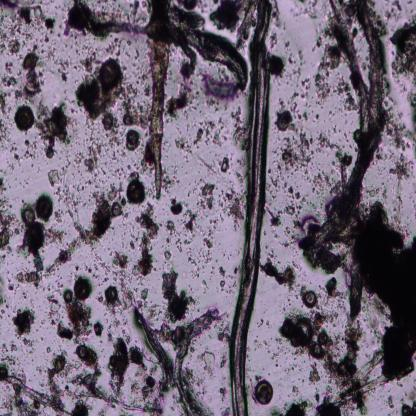Background material: (359, 200, 416, 376), (145, 0, 173, 194), (164, 207, 219, 278), (67, 187, 118, 255), (310, 273, 352, 340), (75, 62, 126, 117), (127, 200, 160, 284), (381, 78, 416, 155), (165, 52, 196, 127), (266, 160, 306, 218), (8, 378, 68, 416), (387, 152, 416, 229), (355, 290, 389, 349), (312, 47, 344, 108), (72, 142, 108, 193), (97, 107, 127, 166), (34, 100, 72, 146), (46, 354, 79, 406), (391, 19, 416, 84), (289, 68, 314, 133), (108, 334, 133, 398), (199, 67, 237, 108), (79, 391, 145, 413), (279, 133, 316, 172), (261, 253, 297, 293), (77, 347, 104, 399), (0, 177, 20, 247), (321, 332, 346, 386), (211, 0, 251, 32), (66, 300, 95, 344), (194, 109, 227, 147), (45, 239, 77, 278), (121, 84, 149, 128), (198, 304, 231, 341), (219, 187, 245, 232), (21, 52, 43, 103), (0, 335, 37, 365), (0, 61, 26, 103), (271, 346, 307, 376), (140, 376, 167, 416), (182, 364, 210, 402), (29, 31, 60, 62), (138, 287, 164, 323), (308, 173, 344, 199), (48, 2, 73, 39), (116, 273, 138, 315), (0, 17, 23, 57), (230, 105, 249, 150), (345, 0, 363, 47), (342, 317, 364, 353), (294, 221, 318, 254), (6, 268, 30, 300), (130, 345, 154, 377), (90, 0, 127, 20), (167, 294, 194, 321), (217, 262, 239, 295), (12, 308, 35, 339), (338, 78, 358, 113), (161, 268, 184, 298), (268, 401, 314, 416), (72, 115, 98, 141), (3, 395, 35, 416), (196, 179, 216, 211), (45, 164, 67, 193), (333, 152, 353, 183), (18, 4, 46, 26), (79, 45, 100, 72), (316, 131, 344, 151), (279, 311, 299, 339), (45, 294, 61, 328), (291, 0, 317, 20), (347, 395, 371, 416), (162, 166, 180, 194), (90, 249, 110, 274), (200, 347, 216, 378), (269, 54, 285, 85), (103, 34, 124, 57), (273, 108, 293, 132), (122, 128, 141, 152), (176, 137, 194, 162), (316, 400, 343, 416), (44, 227, 67, 245), (128, 0, 146, 23), (110, 183, 127, 207), (113, 247, 128, 274), (0, 119, 13, 150), (106, 301, 121, 327), (56, 322, 75, 342), (308, 360, 322, 387), (202, 156, 218, 179), (0, 0, 20, 18), (56, 60, 72, 82), (267, 204, 281, 229), (400, 395, 416, 416), (24, 139, 39, 160), (375, 14, 388, 38), (253, 338, 270, 356), (0, 91, 11, 118), (383, 5, 399, 23), (374, 151, 392, 167), (0, 252, 7, 290), (256, 311, 270, 330), (384, 393, 398, 412), (272, 7, 284, 29), (284, 228, 297, 248), (189, 286, 201, 306), (171, 197, 184, 215), (115, 165, 130, 180), (266, 33, 281, 48), (34, 273, 46, 291), (57, 186, 69, 203), (180, 0, 202, 9), (365, 185, 379, 199), (217, 385, 229, 401), (295, 283, 307, 299), (16, 365, 26, 384), (54, 279, 65, 296), (57, 148, 70, 162), (281, 296, 293, 311), (164, 248, 174, 266), (360, 56, 371, 72), (10, 151, 22, 165), (218, 354, 230, 368), (110, 268, 121, 283), (221, 156, 230, 174), (95, 320, 104, 338), (323, 386, 332, 404), (244, 362, 254, 378), (43, 145, 55, 158), (247, 380, 254, 402), (402, 224, 413, 238), (187, 181, 197, 196), (35, 364, 47, 376), (46, 18, 57, 31), (36, 318, 46, 332), (96, 292, 106, 306), (146, 185, 155, 200), (106, 322, 113, 341), (121, 329, 130, 343), (3, 296, 12, 310), (54, 207, 62, 222), (220, 406, 232, 416), (395, 1, 403, 15), (201, 279, 208, 295), (239, 170, 246, 186), (83, 263, 93, 274), (97, 277, 108, 287), (291, 385, 300, 397), (411, 199, 416, 220), (298, 50, 304, 67), (120, 315, 130, 325), (288, 52, 296, 64), (408, 390, 416, 402), (20, 179, 30, 188), (246, 345, 252, 360), (3, 384, 12, 394), (283, 41, 291, 52), (274, 337, 284, 345), (60, 346, 68, 356), (46, 282, 54, 292), (29, 298, 36, 309), (278, 376, 284, 388), (327, 109, 334, 119), (343, 131, 348, 144), (64, 160, 72, 168), (280, 99, 286, 109), (332, 124, 338, 134), (411, 12, 416, 24), (383, 192, 389, 202), (365, 352, 372, 360), (10, 144, 17, 152), (300, 379, 306, 388), (39, 336, 46, 343), (73, 36, 80, 43), (46, 346, 52, 354), (410, 4, 414, 16), (94, 273, 100, 281), (274, 149, 280, 157), (279, 394, 284, 402), (195, 88, 199, 98), (256, 374, 262, 380), (314, 392, 318, 401), (344, 118, 349, 125), (397, 382, 404, 387), (0, 295, 3, 306), (42, 381, 46, 389), (314, 114, 320, 119), (76, 264, 80, 271), (412, 385, 416, 392), (0, 307, 4, 314), (353, 148, 358, 153), (288, 392, 292, 398), (261, 365, 265, 371), (14, 306, 18, 311), (7, 312, 10, 318), (0, 314, 3, 320), (268, 372, 272, 376), (407, 0, 411, 4), (342, 144, 345, 149), (166, 203, 169, 207), (197, 309, 200, 313), (292, 380, 295, 384), (313, 119, 316, 123), (61, 316, 64, 320), (154, 267, 156, 272), (392, 51, 394, 56), (110, 252, 112, 257), (270, 337, 273, 340), (100, 340, 102, 344), (350, 145, 352, 149), (185, 172, 187, 175), (298, 378, 300, 381), (256, 336, 259, 338), (321, 376, 323, 378), (321, 371, 323, 373)
Cellulose filter fibre: (312, 0, 394, 262), (72, 2, 248, 82), (336, 346, 388, 402), (137, 314, 173, 390), (174, 323, 200, 416), (29, 398, 72, 416)
Diatom: (24, 221, 47, 252), (99, 57, 122, 86), (293, 320, 315, 349), (12, 104, 34, 132), (254, 379, 274, 406), (37, 193, 54, 219), (128, 180, 146, 204), (74, 278, 89, 300), (105, 284, 118, 303), (303, 290, 317, 307), (22, 208, 35, 224), (74, 405, 90, 416), (77, 345, 88, 360), (63, 287, 73, 302), (112, 202, 122, 217), (34, 257, 44, 272), (0, 364, 9, 380), (317, 332, 329, 344), (312, 342, 321, 357), (129, 170, 139, 182), (27, 271, 37, 282), (347, 351, 354, 360)
Microfibre: (226, 0, 278, 412)
